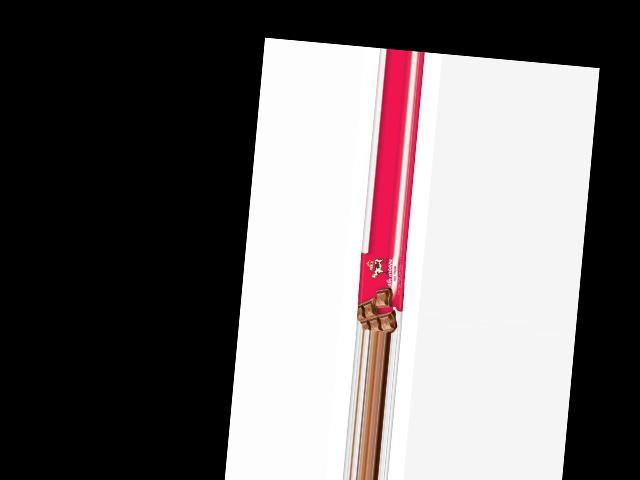chocolate: (355, 251, 408, 333)
